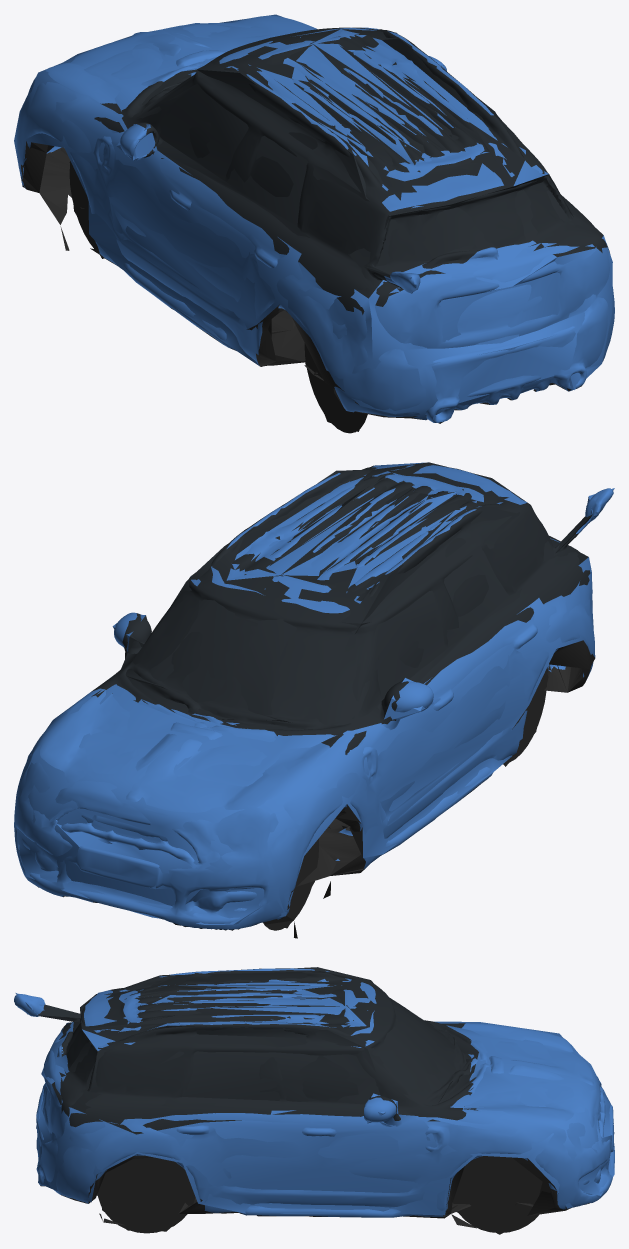
Rendered from mini-countryman.glb.
3 views of the same model, one above another, from view 1: azimuth 30°, elevation 25°; view 2: azimuth 150°, elevation 25°; view 3: azimuth 270°, elevation 25° (orthographic). The views are drawn at different scales.
Parts seen in each view (by area): view 1: body, far; view 2: body, far; view 3: body, far.
Part boxes in pixels (x1,y1,x2,y2): body: (16,15,614,433); far: (14,14,612,431); body: (14,465,613,938); far: (14,462,614,928); body: (14,968,614,1233); far: (15,967,614,1234).
Bounding box in the file's own units: 2 × 1.62 × 4.35.
